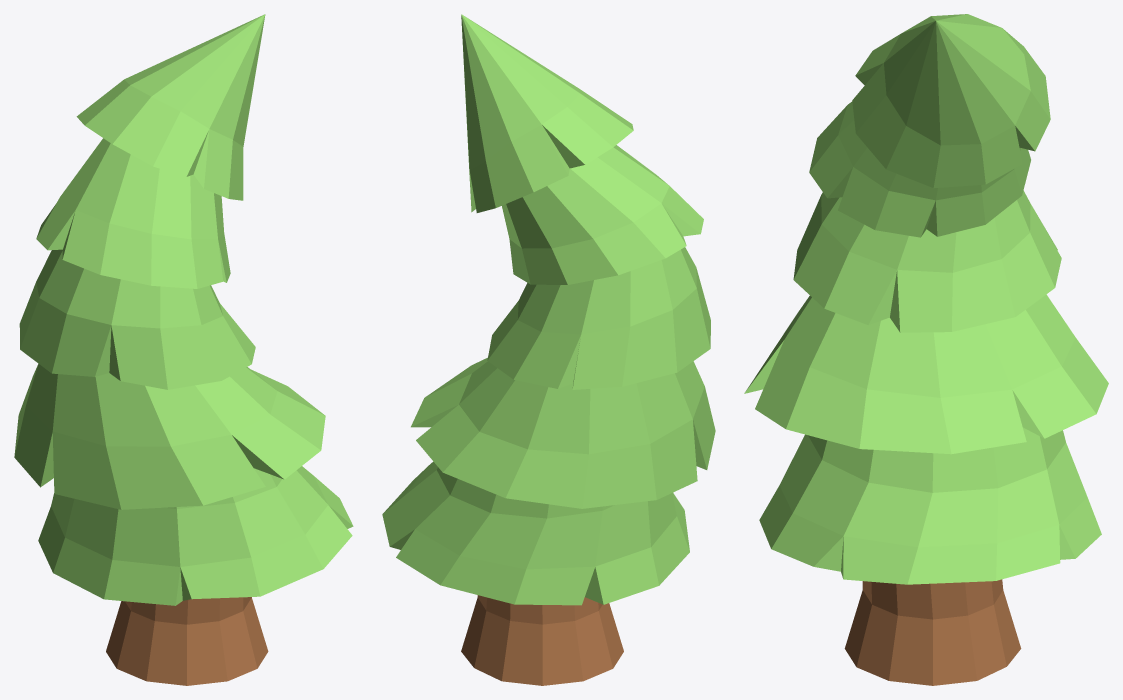
Rendered from Tree1_1Rot.fbx.
3 views of the same model, side by side, from view 1: azimuth 30°, elevation 25°; view 2: azimuth 150°, elevation 25°; view 3: azimuth 270°, elevation 25° (orthographic). The views are drawn at different scales.
Visible parts, largest first — view 1: Tree1.1Rot; view 2: Tree1.1Rot; view 3: Tree1.1Rot.
Part boxes in pixels (<box>): Tree1.1Rot: <box>14,14,353,685</box>; Tree1.1Rot: <box>382,14,715,685</box>; Tree1.1Rot: <box>744,14,1108,685</box>.
Size of the model in its own units: 415 by 838 by 413.
